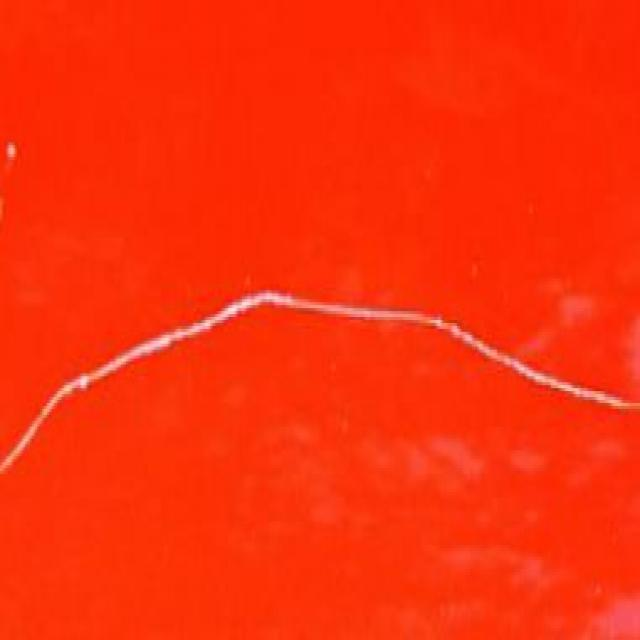scratch: (4, 277, 638, 476)
